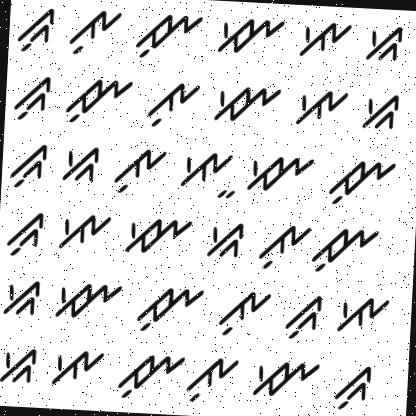e: (289, 79, 351, 129), (46, 342, 110, 390), (332, 286, 393, 336), (174, 141, 234, 190), (296, 15, 352, 65), (54, 207, 112, 252)
nge: (58, 138, 104, 189), (0, 272, 44, 324), (361, 18, 405, 70), (356, 88, 402, 135), (202, 215, 246, 261), (0, 342, 37, 391)
nggu: (10, 70, 58, 126), (326, 360, 374, 416), (13, 0, 56, 62), (280, 292, 324, 342), (3, 212, 48, 260), (8, 142, 51, 192)
nje: (209, 6, 288, 63), (246, 348, 324, 404), (245, 145, 319, 200), (120, 209, 195, 260), (210, 79, 284, 130), (48, 278, 126, 323)
nju: (130, 3, 205, 68), (62, 72, 136, 128), (112, 346, 186, 402), (324, 156, 398, 209), (130, 283, 204, 336), (310, 226, 382, 277)
u: (143, 74, 203, 134), (62, 0, 121, 59), (109, 142, 168, 198), (252, 219, 310, 274), (213, 288, 272, 339), (183, 354, 240, 404)
